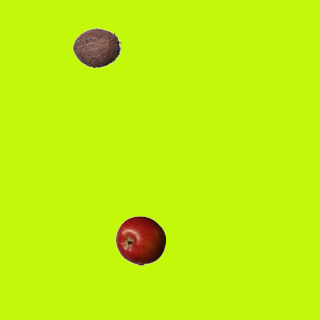Apple Braeburn: (115, 215, 165, 265)
Cocos: (71, 22, 121, 72)
